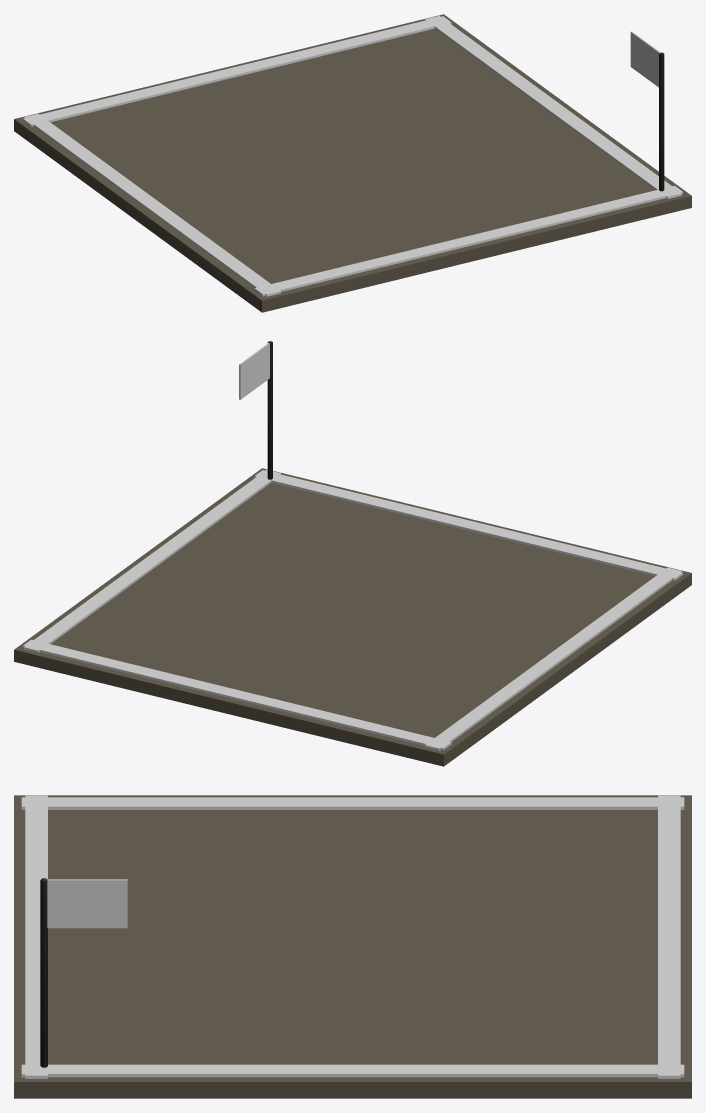
Rendered from m_hq_4bafe81c.glb.
3 views of the same model, one above another, from view 1: azimuth 30°, elevation 25°; view 2: azimuth 150°, elevation 25°; view 3: azimuth 270°, elevation 25° (orthographic). The views are drawn at different scales.
Visible parts, largest first — view 1: mesh; view 2: mesh; view 3: mesh.
Part boxes in pixels (box(x1,y1,x2,y2)): mesh: box(14, 14, 691, 312); mesh: box(14, 341, 691, 766); mesh: box(14, 795, 691, 1098).
Bounding box in the file's own units: 89.57 × 30 × 89.57.
